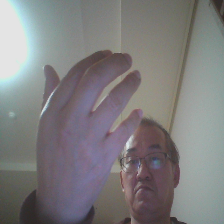hand: (40, 44, 143, 222)
